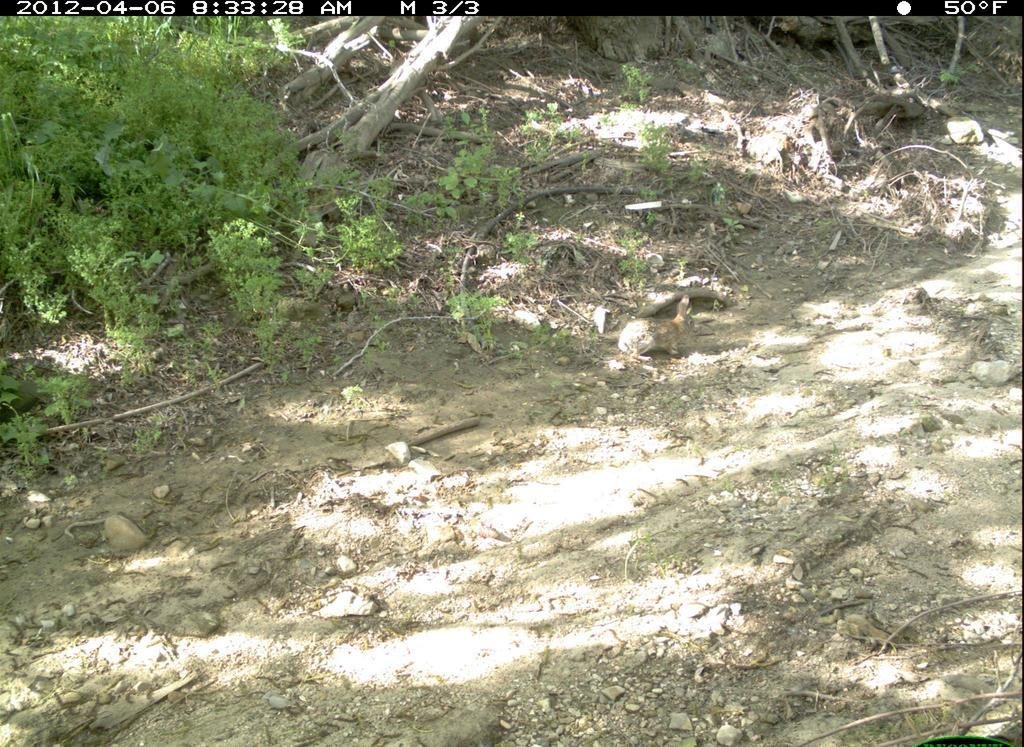rabbit: (618, 293, 700, 364)
